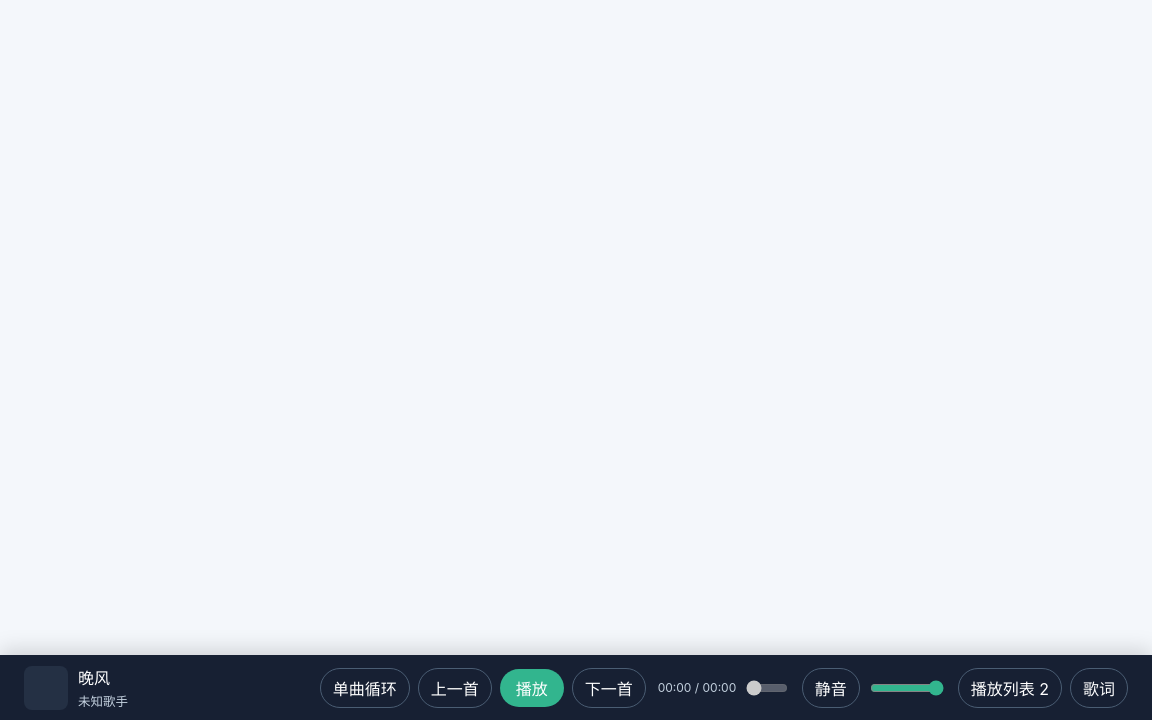
PlayerBar › cycles loop mode from the bar
Click the button with aria-label "单曲循环" at (365, 688), box [320, 668, 410, 708]
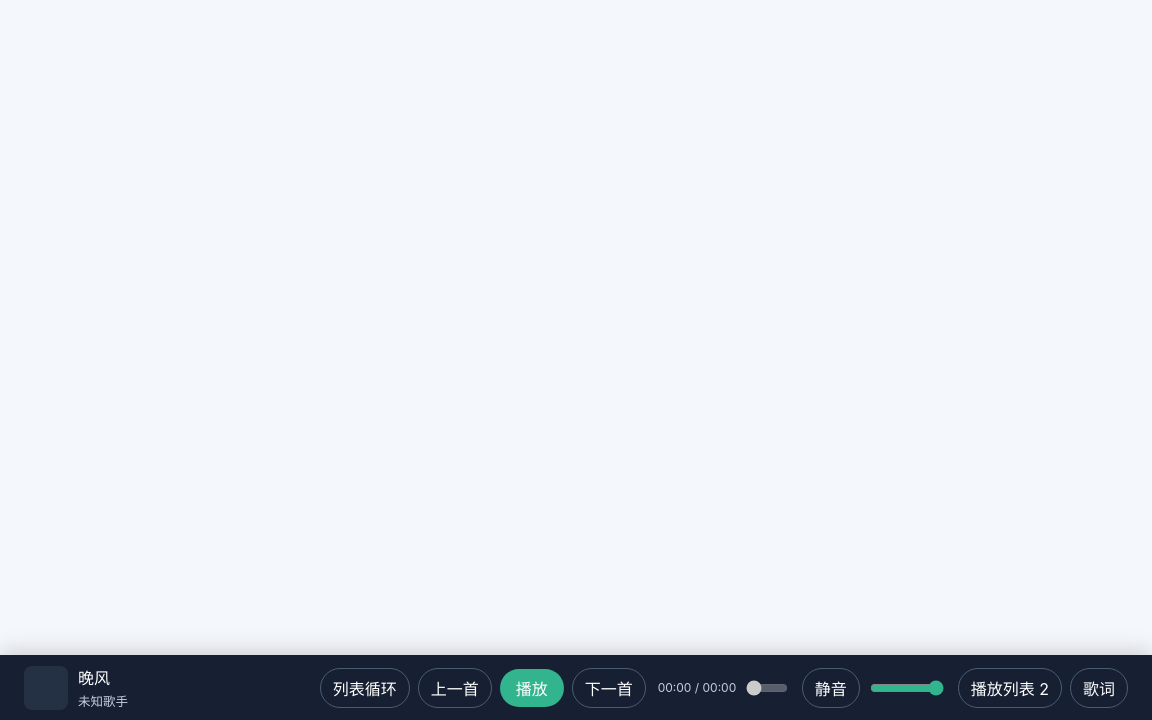
Now the button with aria-label "列表循环" reads "列表循环"
Click the button with aria-label "列表循环" at (365, 688), box [320, 668, 410, 708]
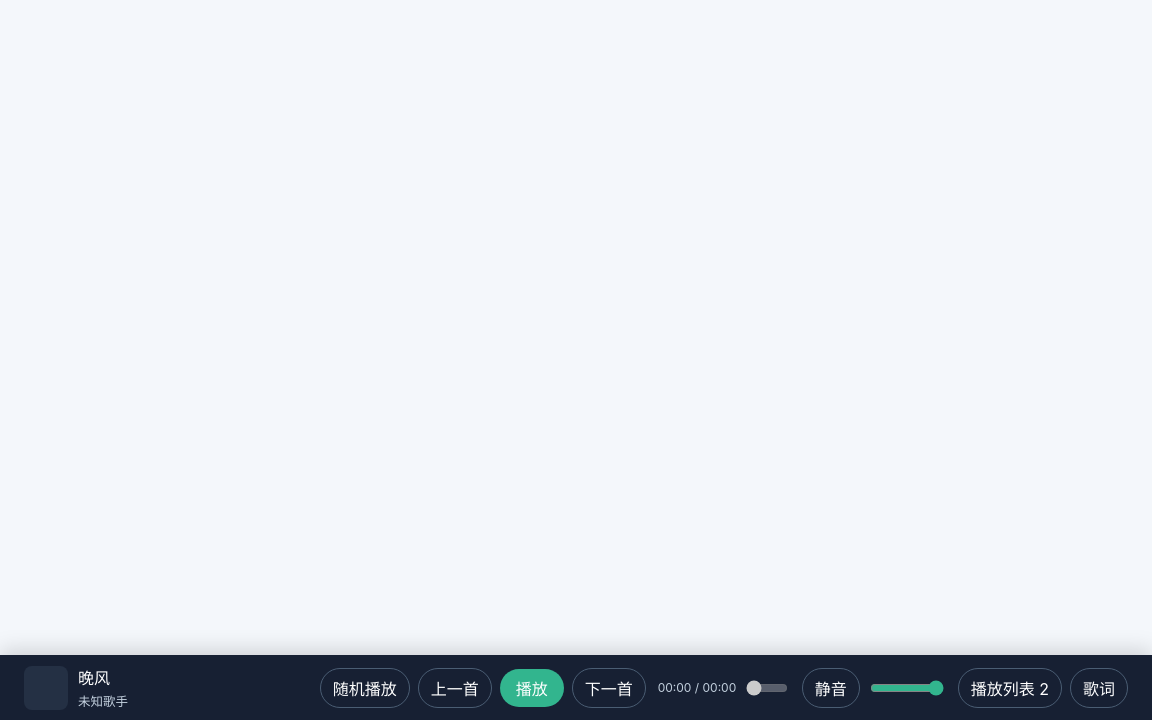
Now the button with aria-label "随机播放" reads "随机播放", box [320, 668, 410, 708]
